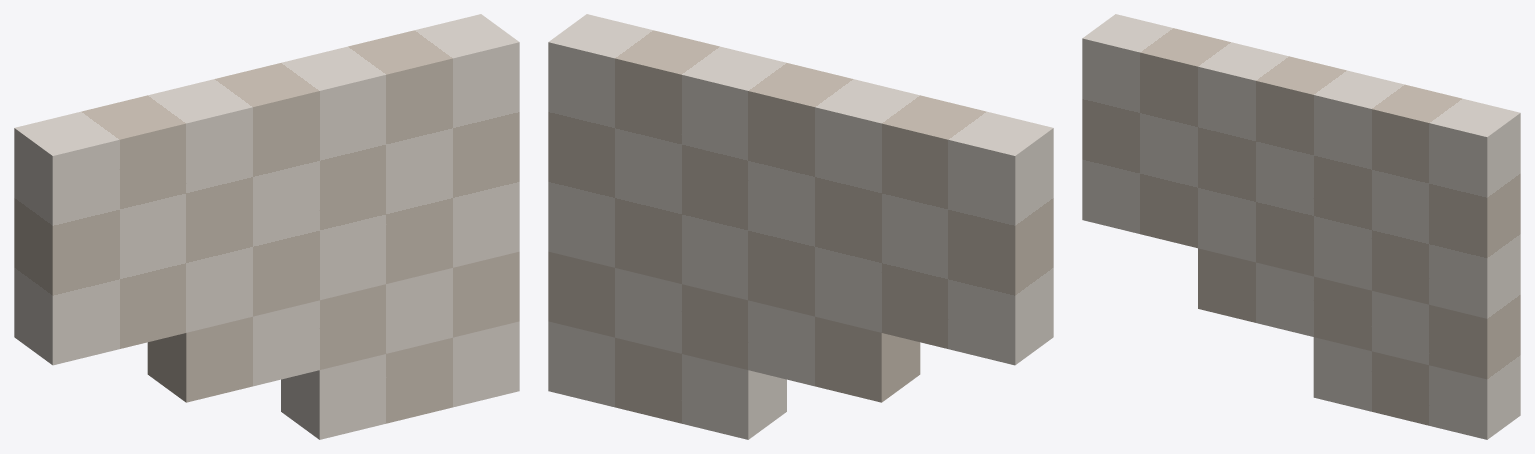
The model's file is hammock_slope2.fbx.
3 renders of one model, left to right at view 1: azimuth 30°, elevation 25°; view 2: azimuth 150°, elevation 25°; view 3: azimuth 330°, elevation 25°, orthographic. The views are drawn at different scales.
Parts seen in each view (by area): view 1: Matrix_25; view 2: Matrix_25; view 3: Matrix_25.
Boxes of the visible parts, x1=… form: Matrix_25: x1=14, y1=14, x2=519, y2=439; Matrix_25: x1=548, y1=14, x2=1053, y2=439; Matrix_25: x1=1082, y1=14, x2=1520, y2=439.
Bounding box in the file's own units: 7 × 5 × 1.
